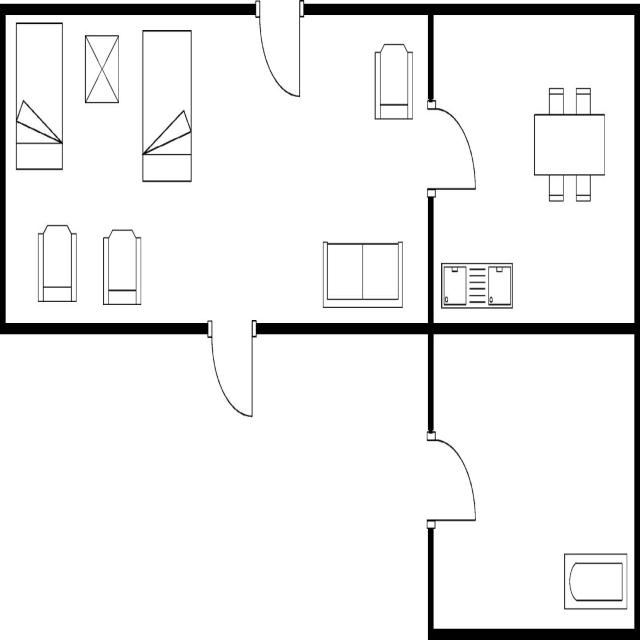armchair: (34, 219, 78, 306), (100, 225, 144, 310), (373, 38, 415, 126)
bed: (140, 25, 193, 186), (14, 17, 64, 174)
coffee_table: (82, 32, 121, 105)
dining_table: (531, 82, 607, 206)
large_sofa: (320, 233, 406, 314)
tub: (562, 548, 629, 616)
twin_sink: (438, 257, 516, 312)
